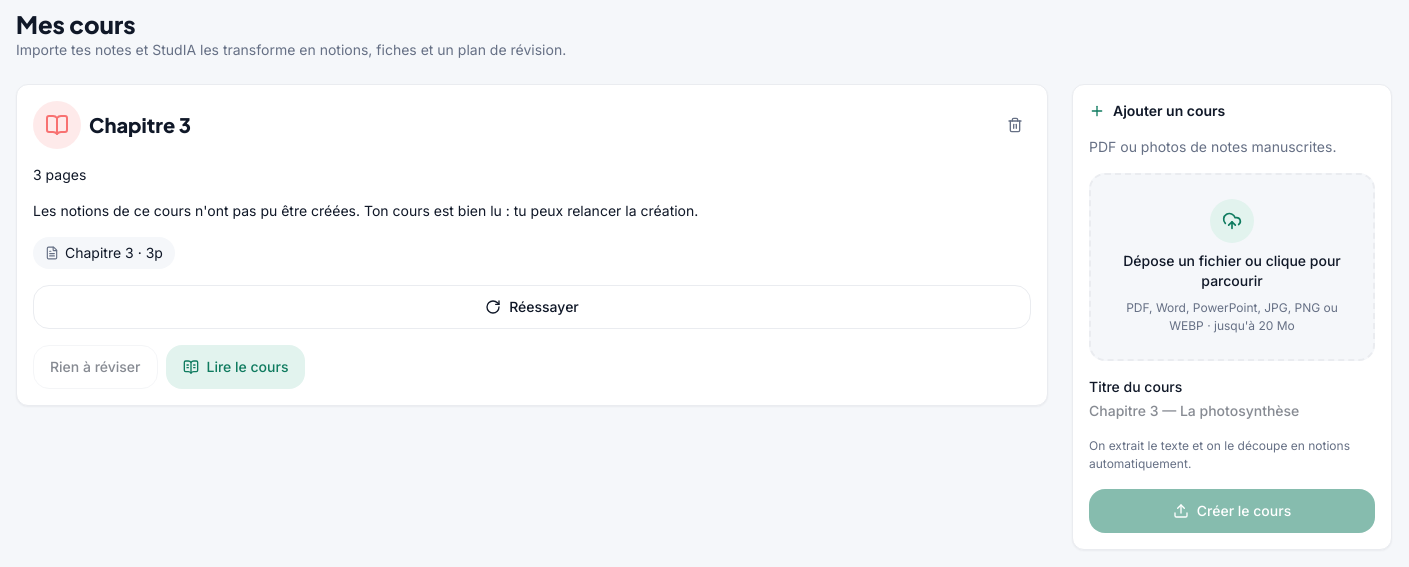
Scenario: DocumentsScreen — notion step › 'Réessayer' relaunches notion creation only, not the extraction, then shows the step as in progress
Click the button "Réessayer" at (532, 307), box [33, 285, 1031, 329]
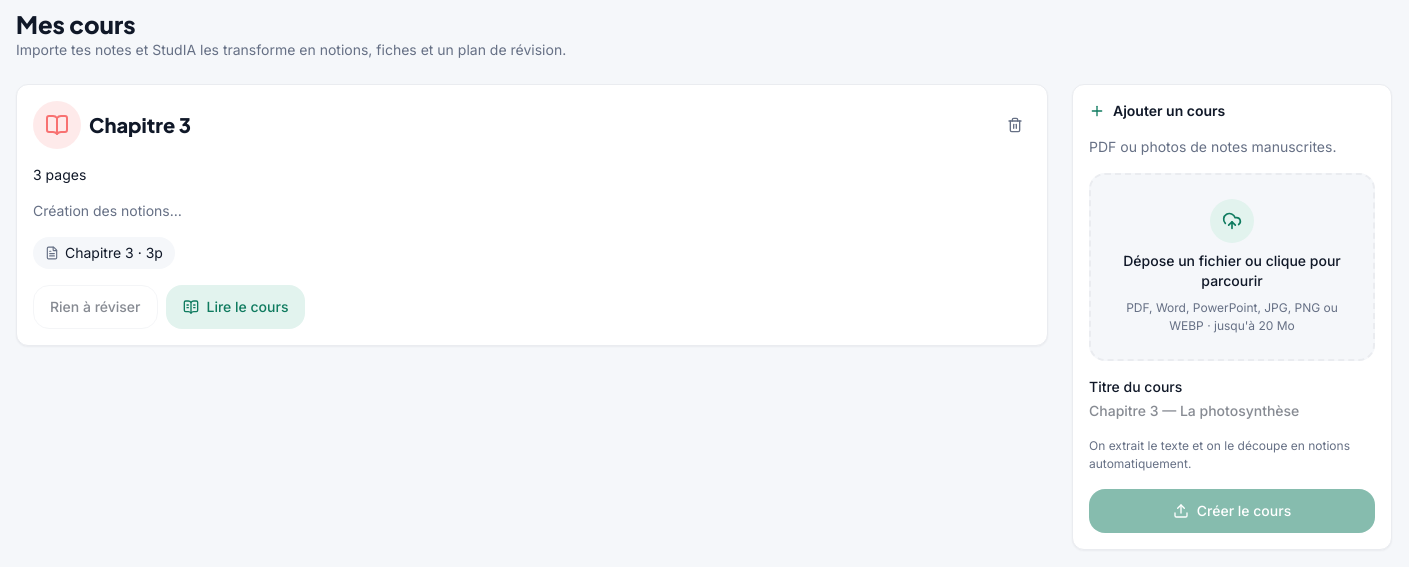
Check: the text "Création des notions…" is shown, box [33, 202, 182, 219]
